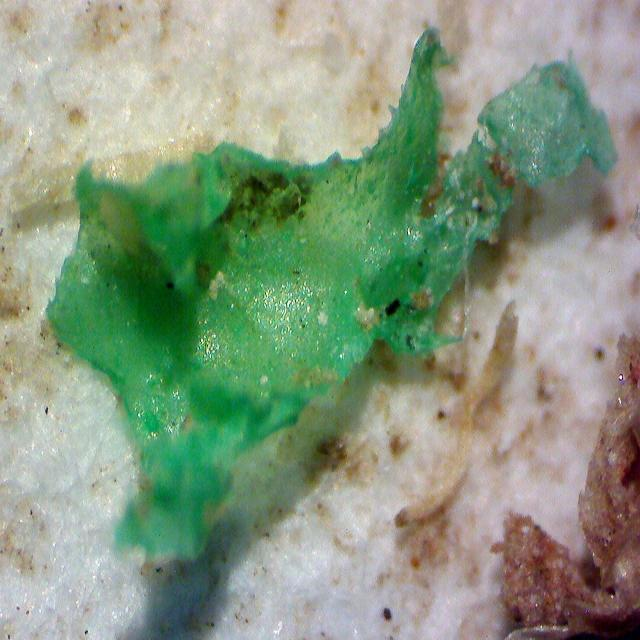microplastic: (49, 28, 618, 561)
